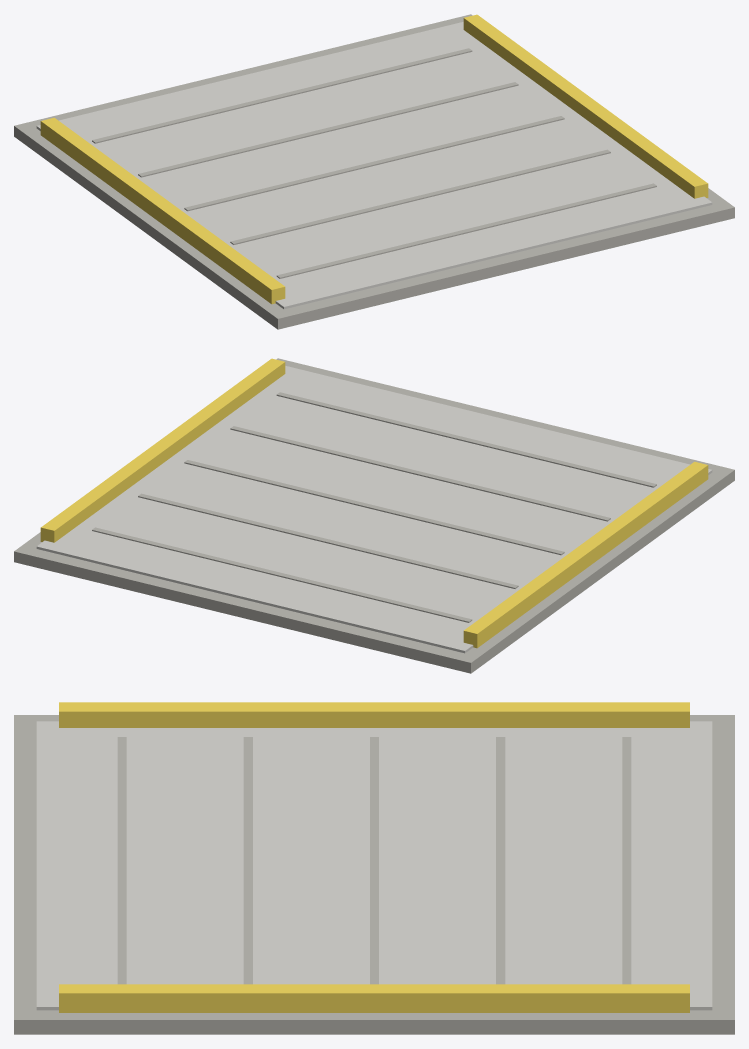
The model's file is rocket-launch-pad-and-gantry-hardstand-module-3371fe3f__38156.glb.
The picture shows the model from 3 angles, top to bottom: view 1: azimuth 30°, elevation 25°; view 2: azimuth 150°, elevation 25°; view 3: azimuth 270°, elevation 25°; orthographic projection. The views are drawn at different scales.
Visible parts, largest first — view 1: hardstand-module; view 2: hardstand-module; view 3: hardstand-module.
Boxes of the visible parts, box(x1,y1,x2,y2) form: hardstand-module: box(14, 14, 734, 329); hardstand-module: box(14, 358, 734, 673); hardstand-module: box(14, 702, 734, 1034).
Size of the model in its own units: 8 by 0.42 by 8.
